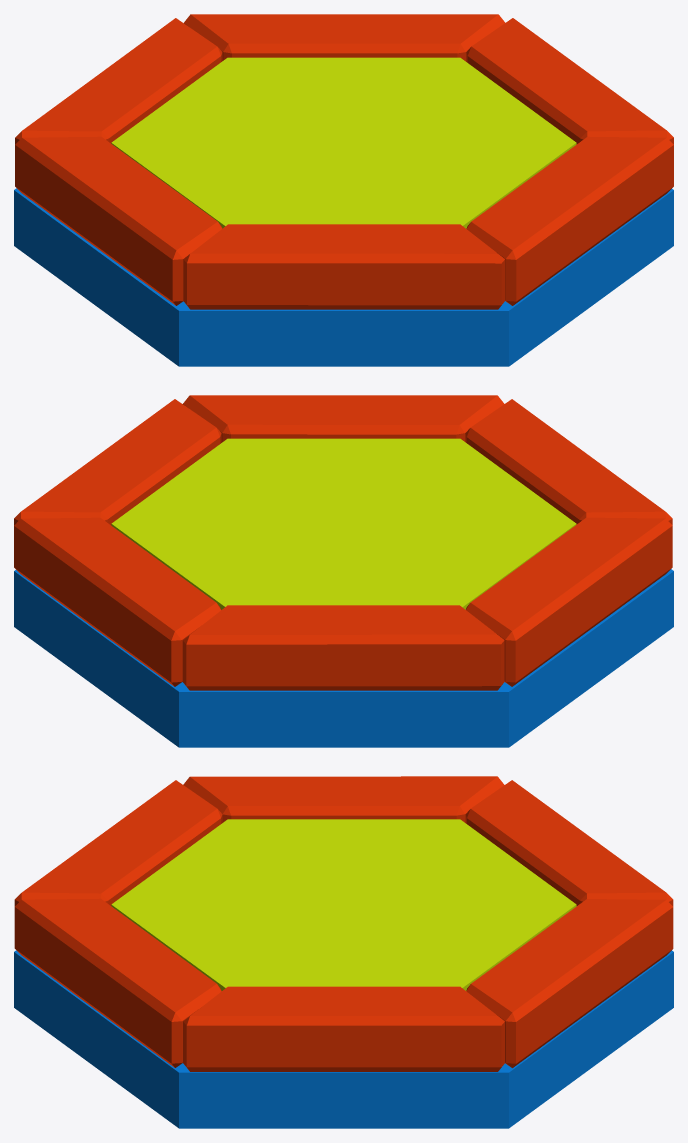
File: HexagonPavement.fbx
3 views of the same model, one above another, from view 1: azimuth 30°, elevation 25°; view 2: azimuth 150°, elevation 25°; view 3: azimuth 270°, elevation 25° (orthographic).
Parts seen in each view (by area): view 1: Circle; view 2: Circle; view 3: Circle.
Part boxes in pixels (x1,y1,x2,y2): Circle: (14, 14, 673, 366); Circle: (14, 395, 673, 747); Circle: (14, 776, 673, 1128).
Bounding box in the file's own units: 176 × 37.37 × 200.
